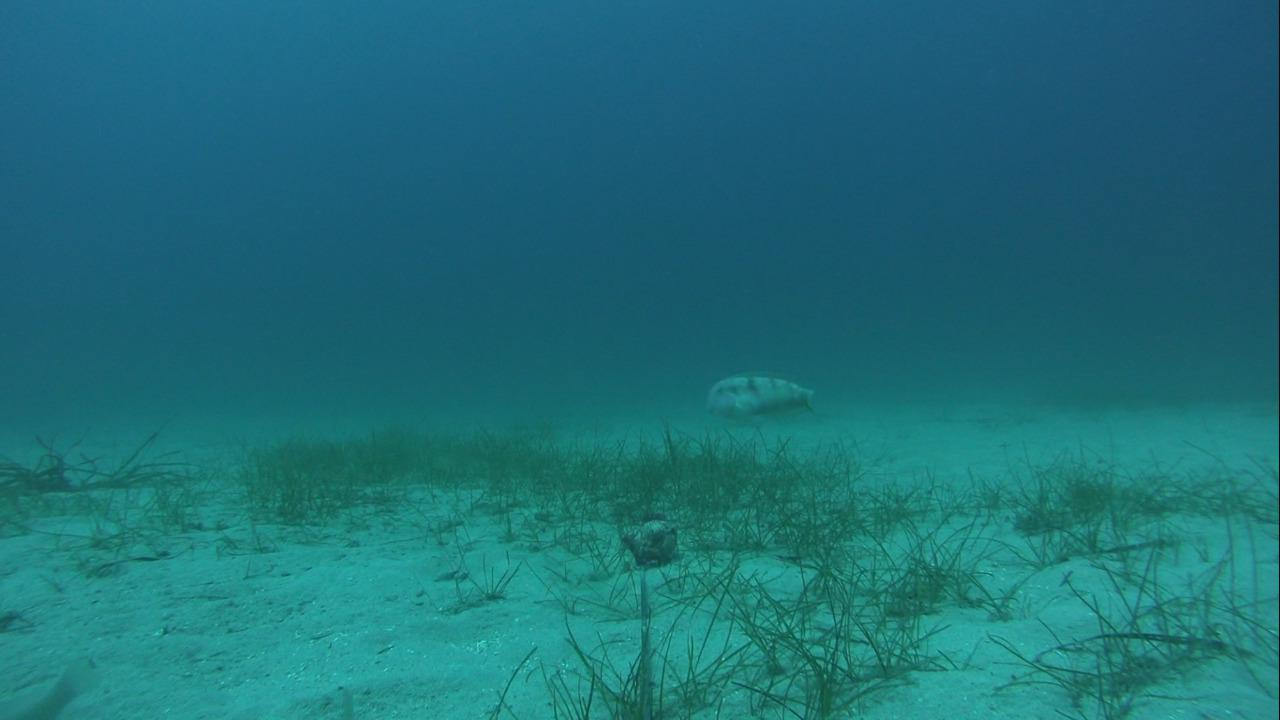raor: (699, 364, 825, 423)
